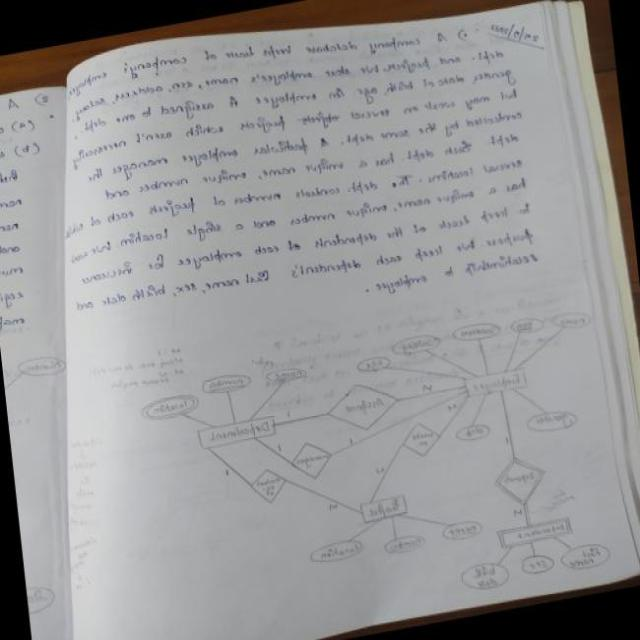Figure Detection - v3 Dataset Version2: (124, 285, 622, 640)
